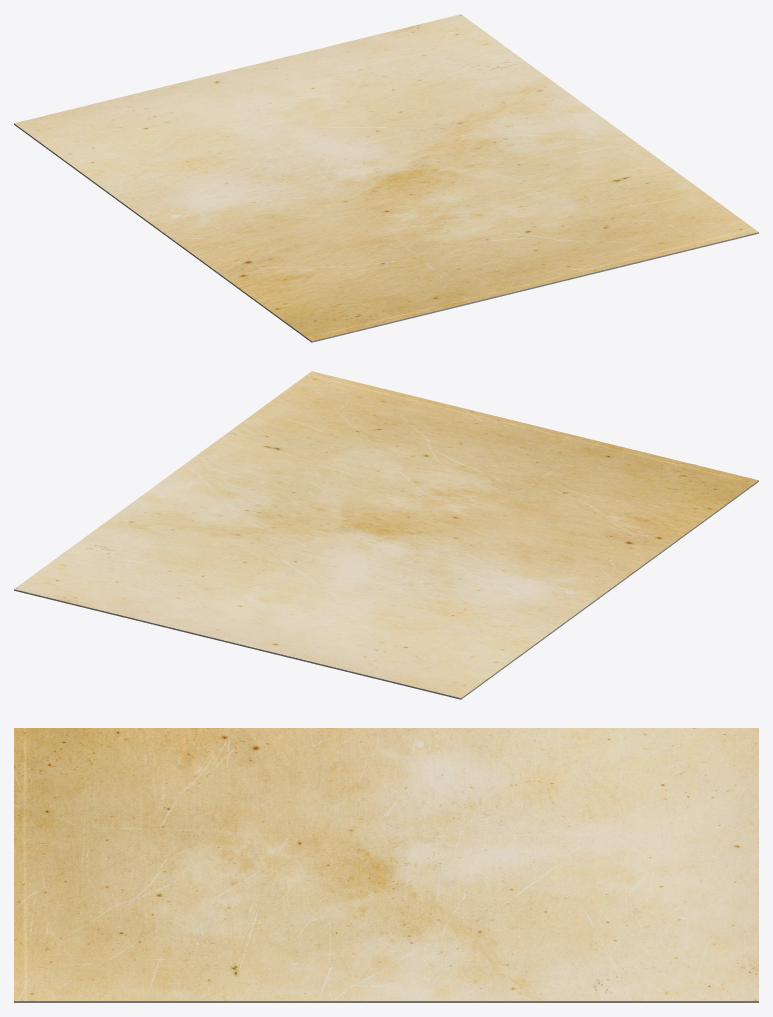
The model's file is book_flip_003.fbx.
3 renders of one model, top to bottom at view 1: azimuth 30°, elevation 25°; view 2: azimuth 150°, elevation 25°; view 3: azimuth 270°, elevation 25°, orthographic. The views are drawn at different scales.
Parts seen in each view (by area): view 1: pCube1; view 2: pCube1; view 3: pCube1.
Part boxes in pixels (<box>): pCube1: <box>14,14,758,342</box>; pCube1: <box>14,371,758,699</box>; pCube1: <box>14,728,758,1002</box>.
Bounding box in the file's own units: 12.51 × 0.0393 × 14.43.
Materials: 3 (2 with a texture image).
